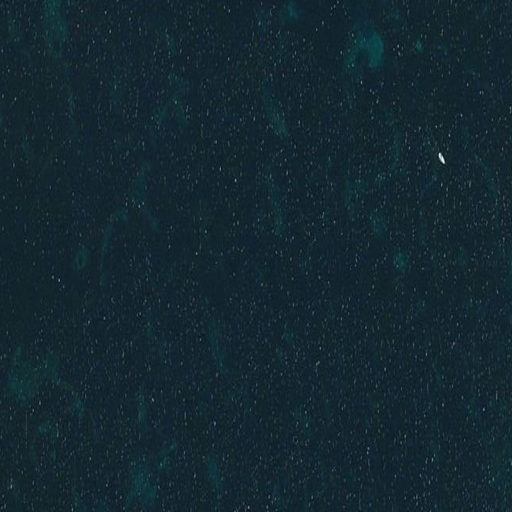ship: (435, 150, 447, 166)
